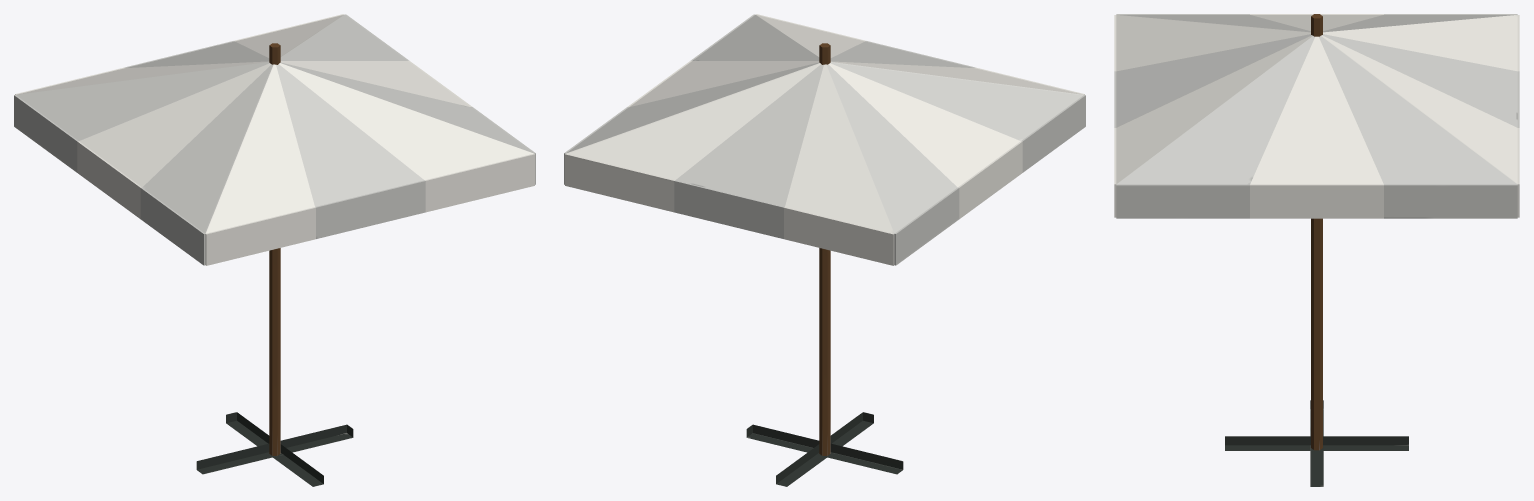
Rendered from slunecnik_ctverec_241eb6f8.glb.
3 views of the same model, side by side, from view 1: azimuth 30°, elevation 25°; view 2: azimuth 150°, elevation 25°; view 3: azimuth 270°, elevation 25° (orthographic). The views are drawn at different scales.
Visible parts, largest first — view 1: dum; view 2: dum; view 3: dum.
Part boxes in pixels (box(x1,y1,x2,y2)): dum: box(14, 14, 535, 486); dum: box(564, 14, 1085, 486); dum: box(1114, 14, 1519, 486).
Size of the model in its own units: 2.42 by 2.84 by 2.42.
Materials: 1 (1 with a texture image).
